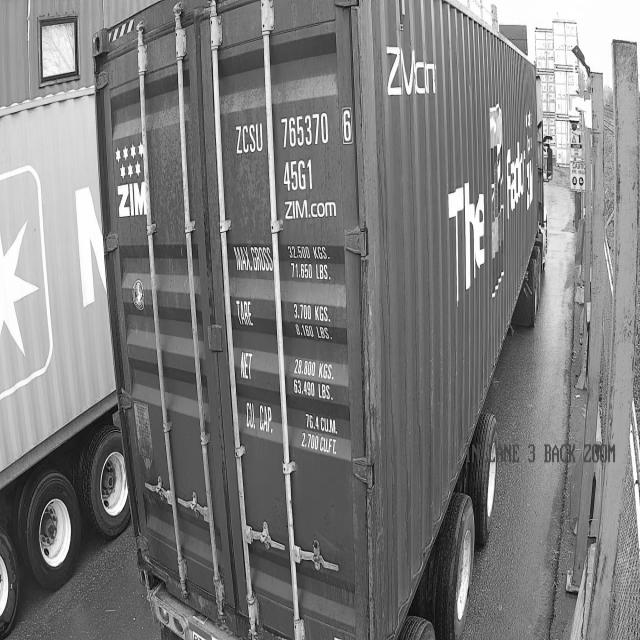container_company_logo: (111, 162, 154, 222)
container_number: (232, 117, 351, 192)
other_container_info: (234, 242, 349, 456)
truck_with_container: (92, 0, 548, 639), (0, 87, 130, 638)
